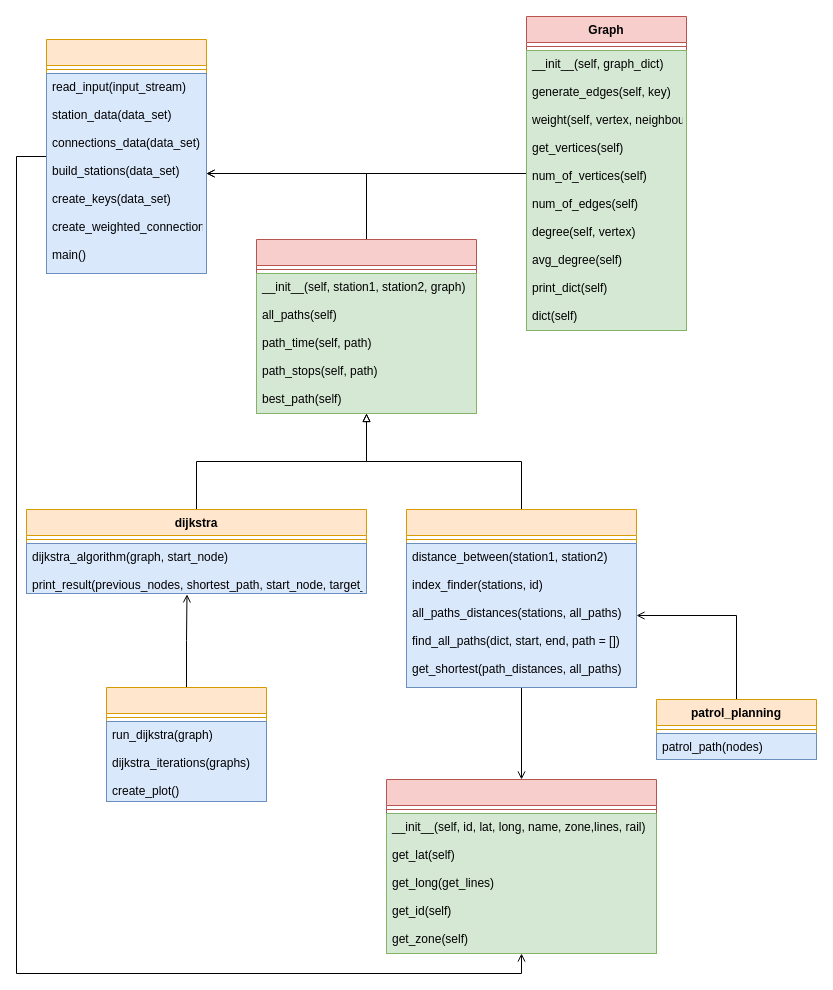
Image size: 833x990. Some labels were removed from this diagram. The box of each missing label's shape, as (x1, y1, x2, y2) in pixels:
aStar: (406, 508, 636, 688)
benchmarking: (106, 686, 266, 802)
graph_structure: (46, 38, 206, 274)
Itinerary: (256, 238, 476, 414)
Station: (386, 778, 656, 954)
